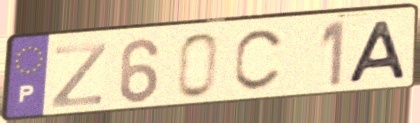0: (174, 30, 225, 102)
1: (316, 18, 347, 91)
6: (117, 35, 161, 106)
A: (345, 18, 410, 86)
C: (231, 27, 288, 95)
Z: (48, 40, 110, 111)
